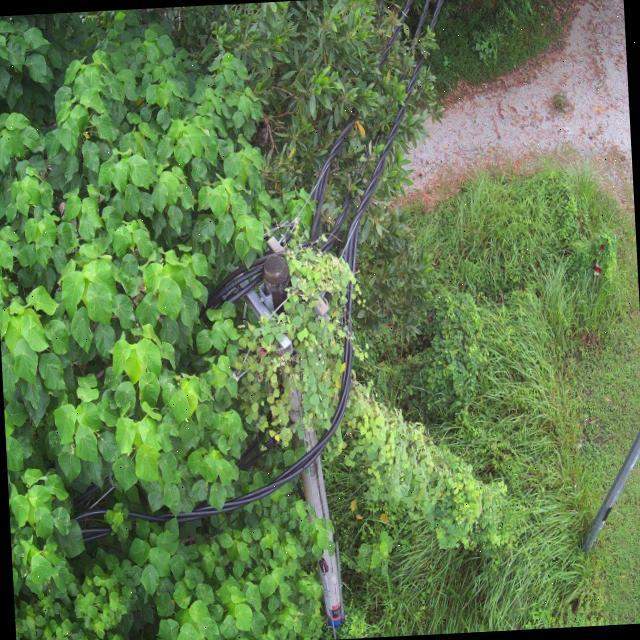critical vegetation: (173, 179, 532, 574)
